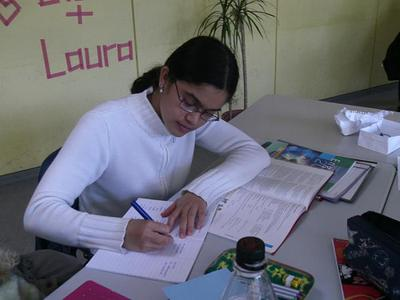person: (23, 36, 273, 255)
